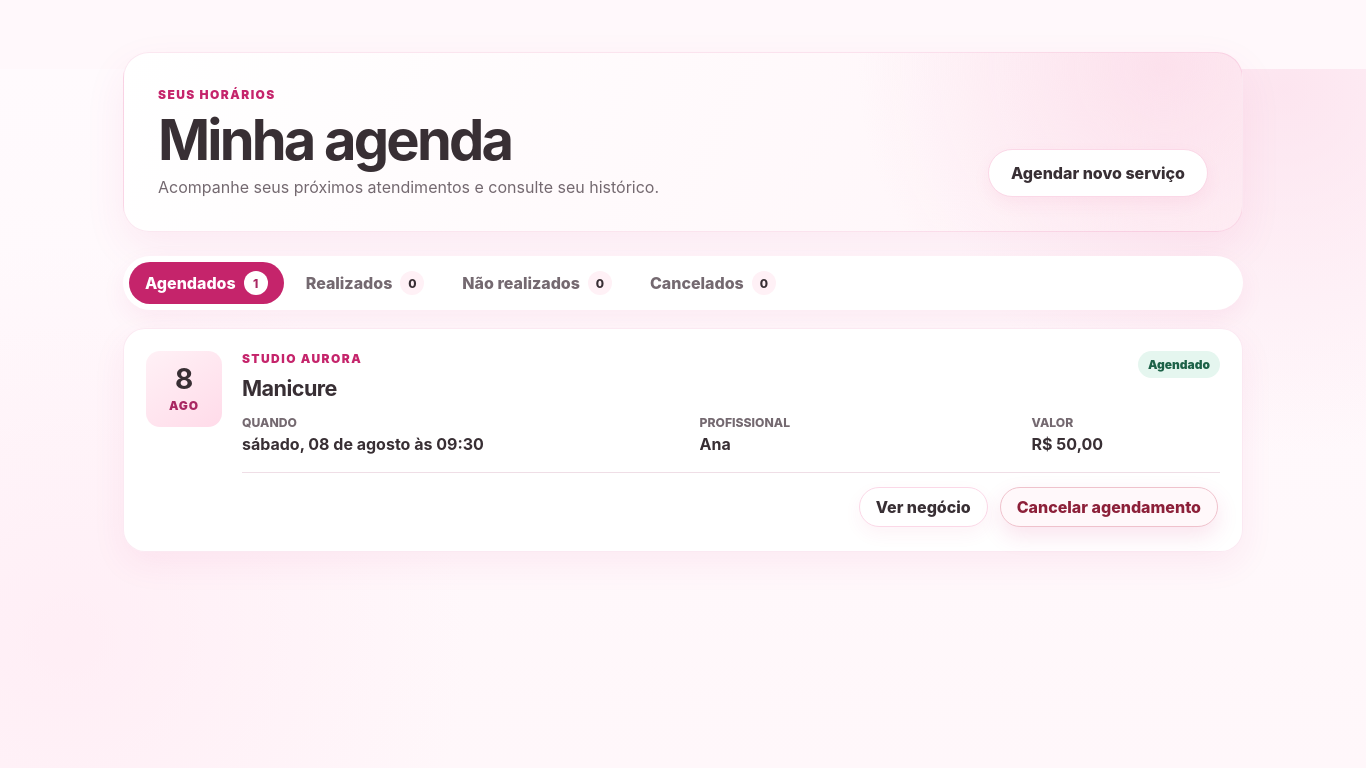
Test: agenda da cliente › mantém o diálogo aberto e mostra o erro quando o cancelamento falha
This screenshot has width=1366, height=768.
Click the button "Cancelar agendamento": coordinates (1109, 507) [1000, 487, 1218, 527]
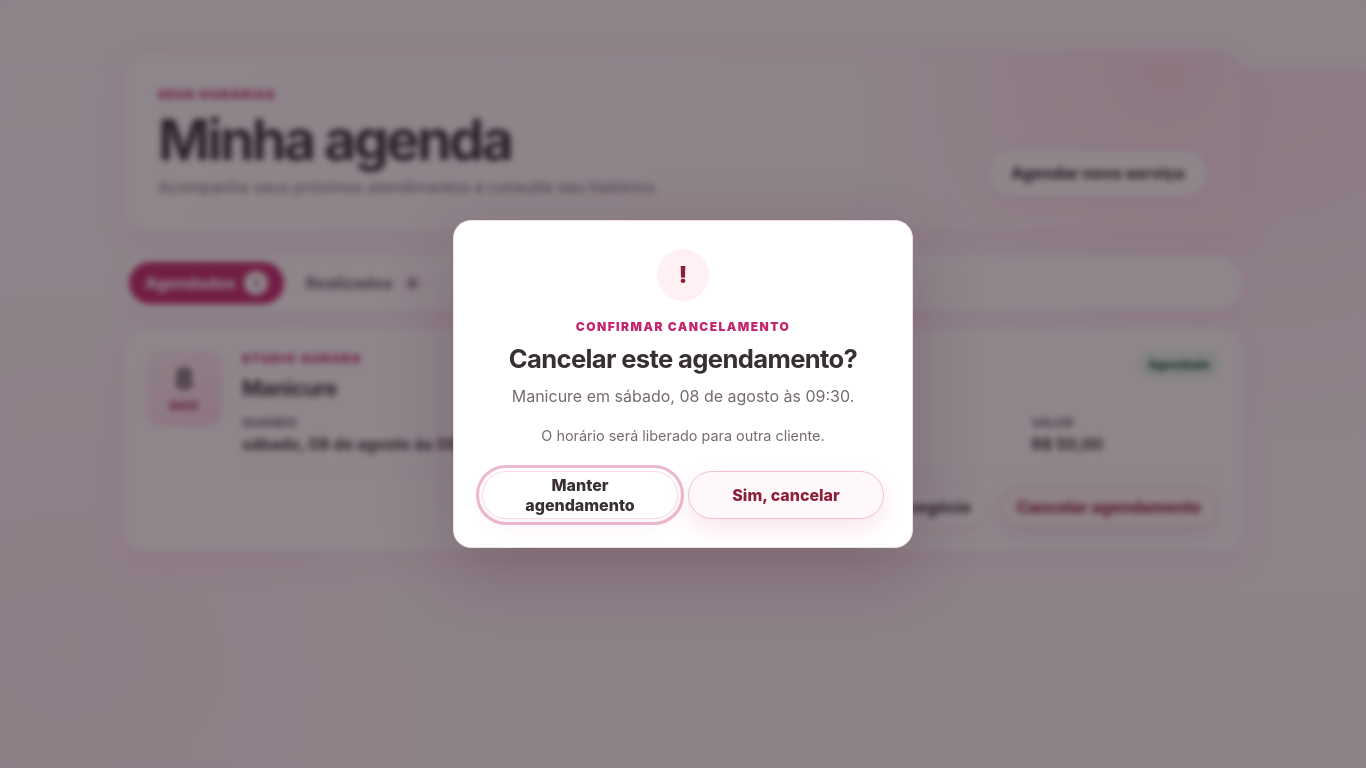
Click the button "Sim, cancelar": coordinates (786, 495) [688, 471, 884, 519]
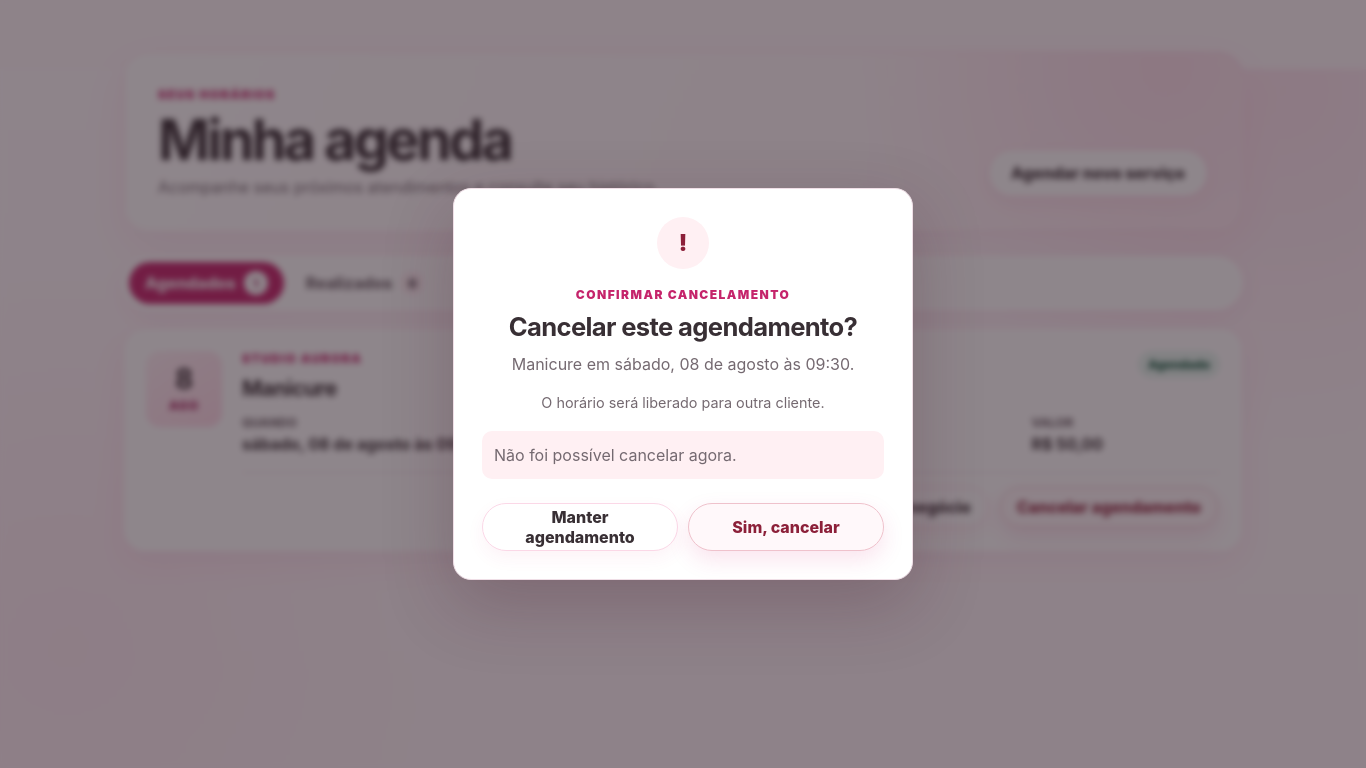
Expected: the button "Sim, cancelar" is enabled, [688, 504, 884, 552]
Expected: the message reads "Não foi possível cancelar agora.", [494, 445, 737, 465]
